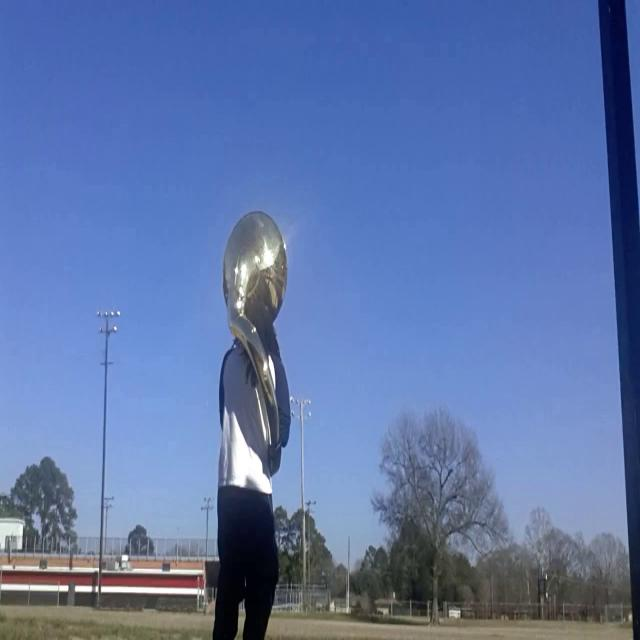Tuba: (220, 206, 290, 476)
